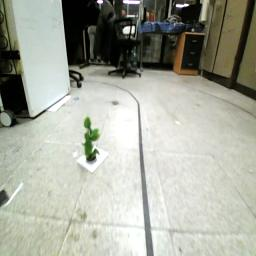herb: (82, 115, 102, 164)
